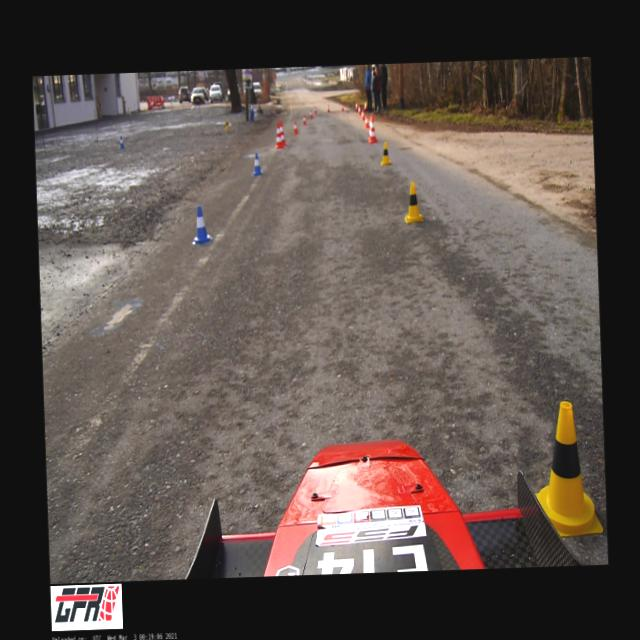blue_cone: (190, 204, 212, 243), (252, 152, 262, 175), (118, 136, 125, 148)
large_orange_cone: (368, 115, 376, 142), (275, 122, 283, 148), (280, 120, 286, 145)
orange_cone: (292, 120, 298, 132), (364, 114, 368, 128), (360, 108, 364, 120), (302, 114, 306, 124), (363, 101, 367, 110), (326, 104, 330, 112), (355, 101, 358, 110), (341, 102, 344, 110), (310, 109, 312, 118), (358, 106, 360, 114), (314, 106, 316, 113)
yellow_cone: (532, 399, 604, 537), (403, 181, 423, 223), (380, 140, 390, 164), (224, 118, 229, 128)
